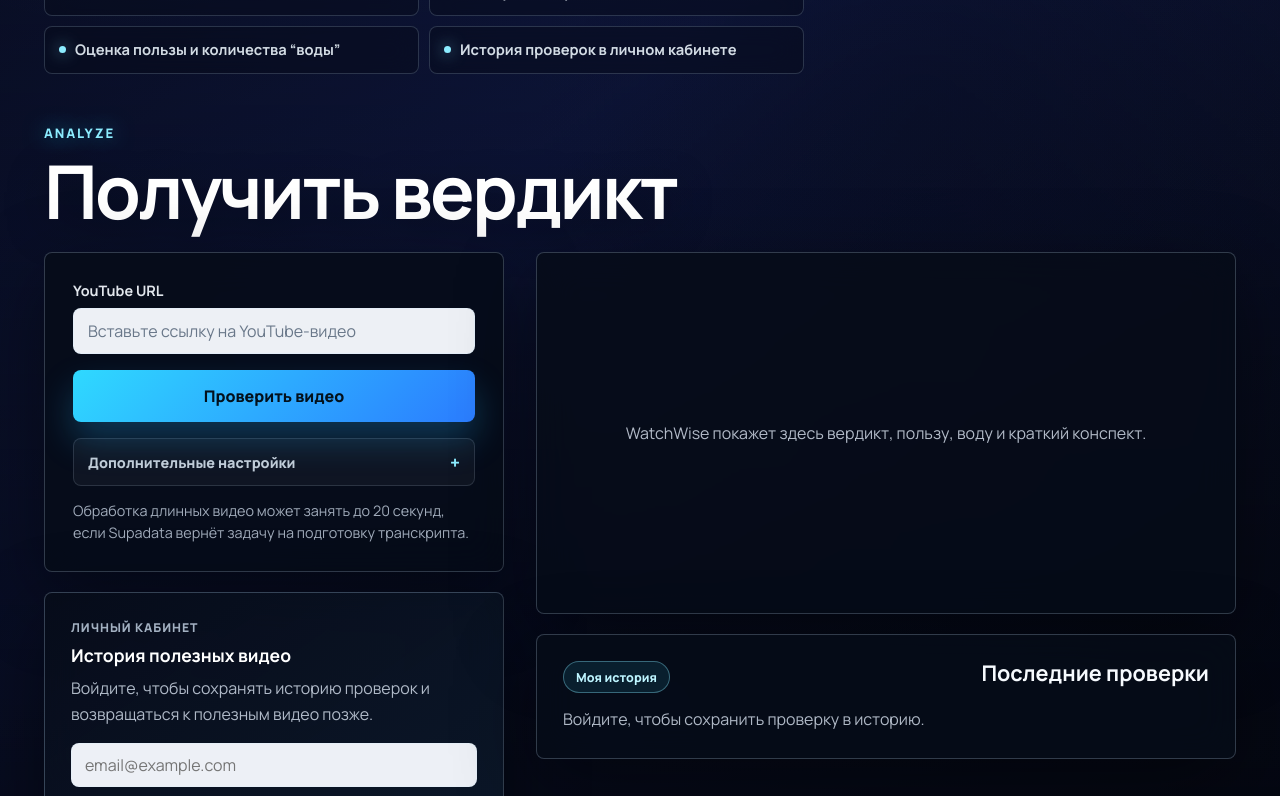
Test: WatchWise homepage › validates empty and invalid URLs
(page scrolled)
Click the button "Проверить видео" at (274, 396), box [73,370,475,422]
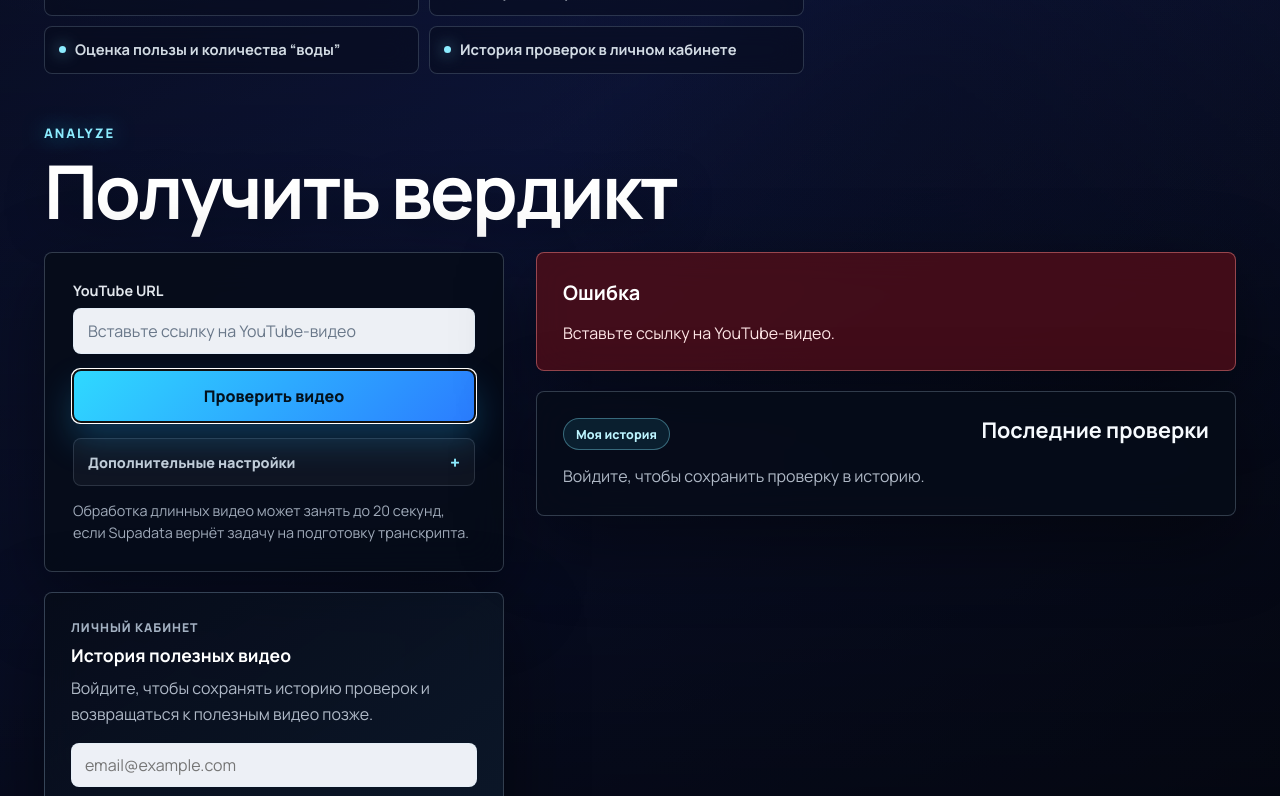
expect the text "Вставьте ссылку на YouTube-видео." is shown: met, box [563,322,835,344]
Type "https://example.com/video" into the field with placeholder "Вставьте ссылку на YouTube-видео" at (274, 331), box [73,308,475,354]
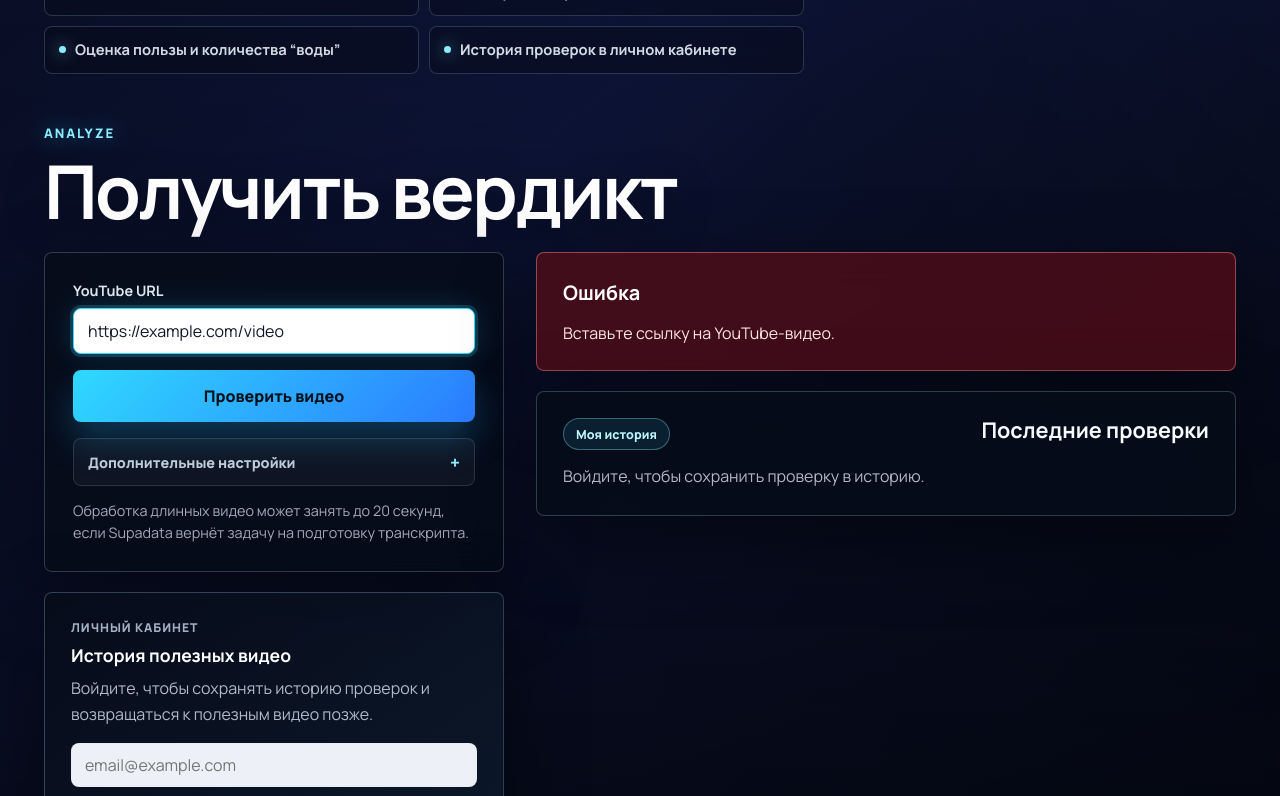
Click the button "Проверить видео" at (274, 396), box [73,370,475,422]
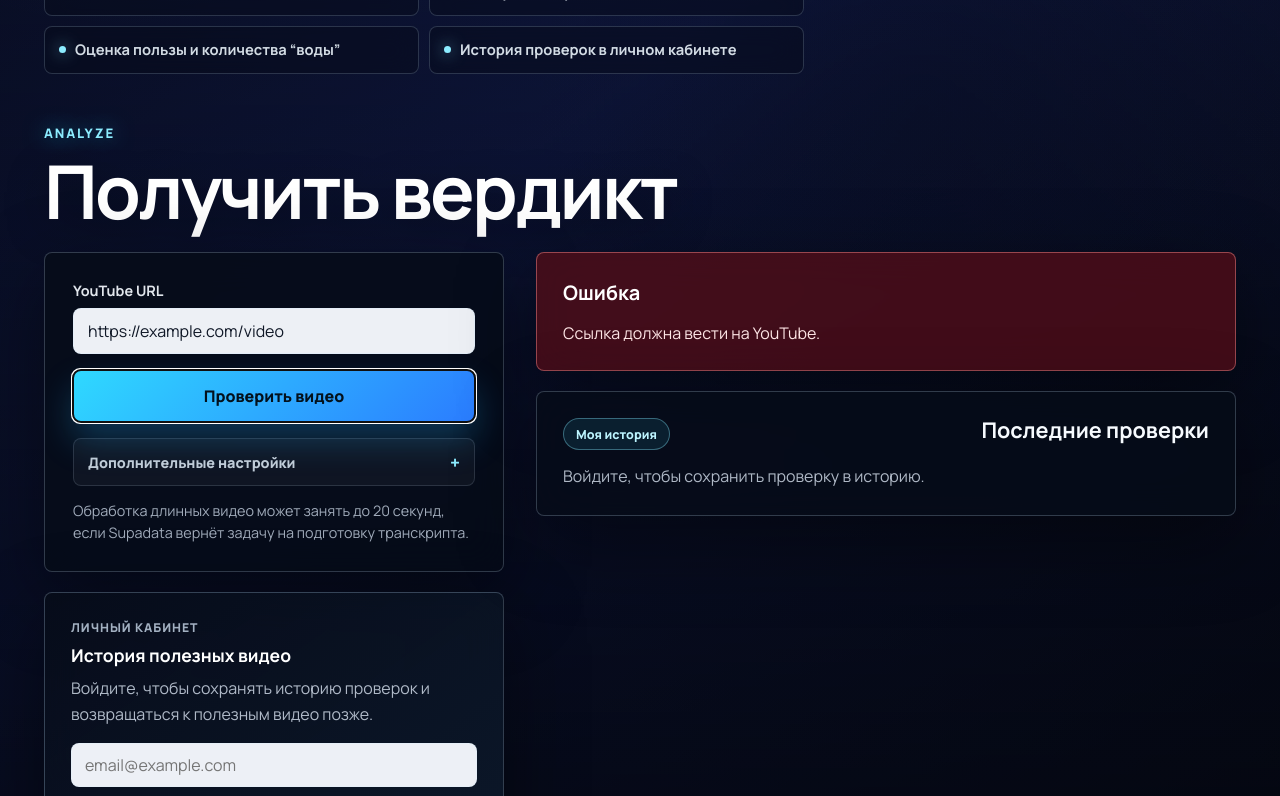
expect the text "Ссылка должна вести на YouTube." is shown: met, box [563,322,820,344]
